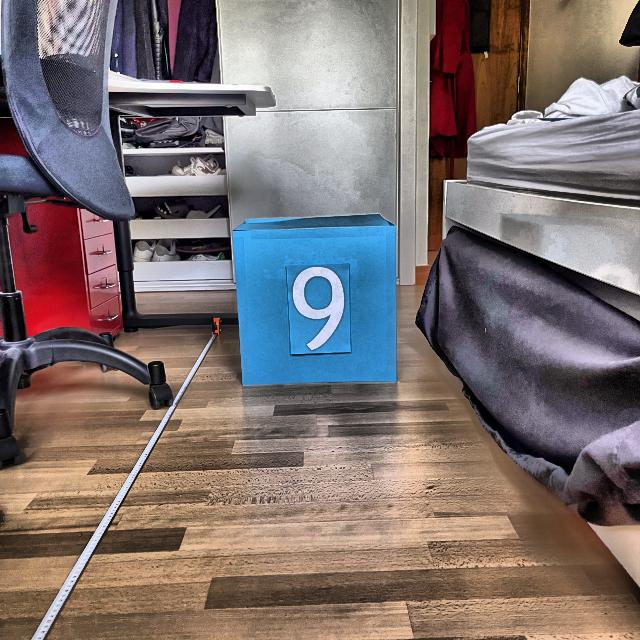blue box: (230, 213, 403, 386)
nine: (290, 265, 346, 351)
